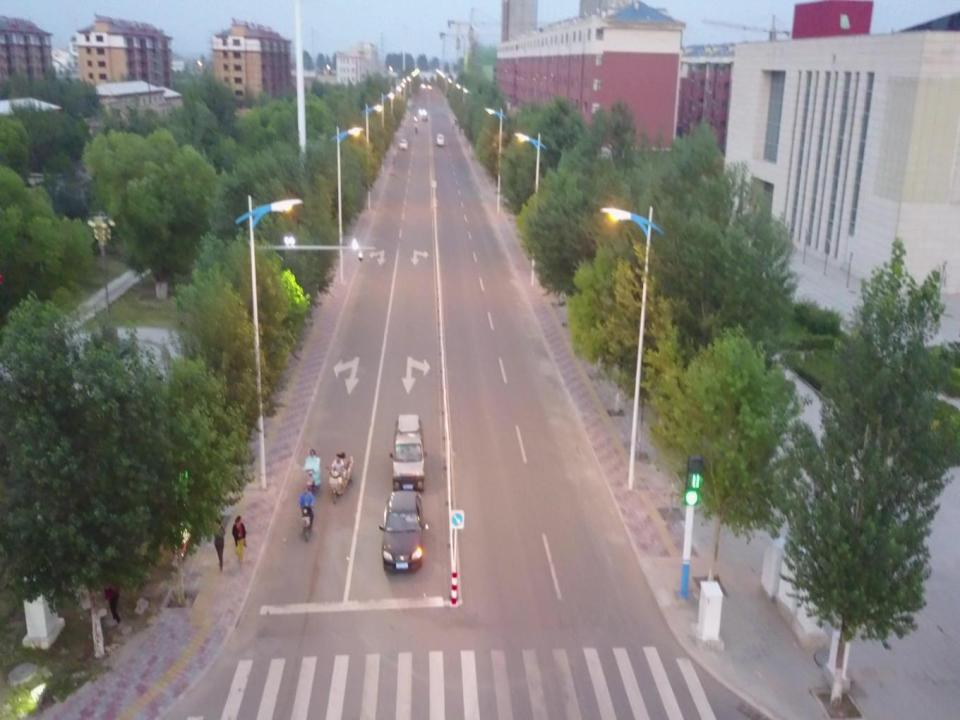car: (382, 488, 426, 575), (389, 413, 428, 489), (435, 131, 444, 146), (399, 137, 406, 147)
